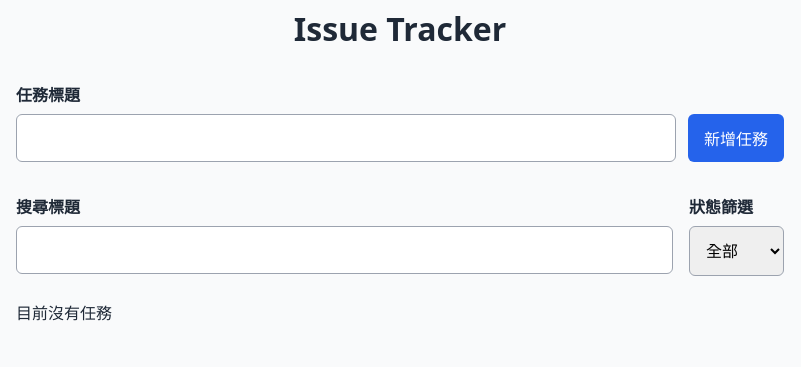
Test case: App › 新增任務時預設為待處理
This screenshot has width=801, height=367.
Type "新增搜尋" into the field labelled "任務標題" at (346, 138), box [16,114,676,162]
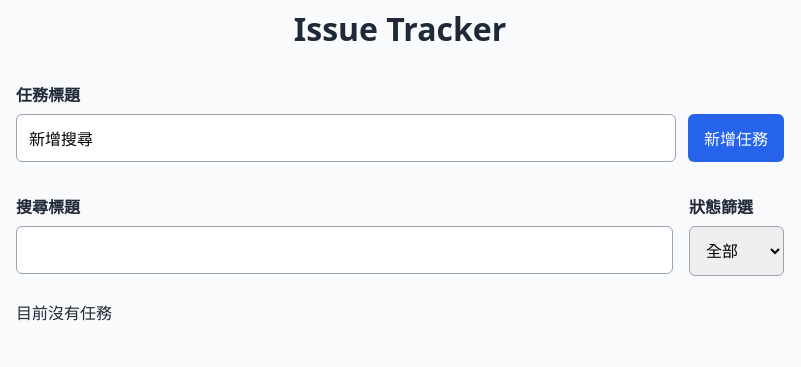
Click the button "新增任務" at (736, 138), box [688,114,784,162]
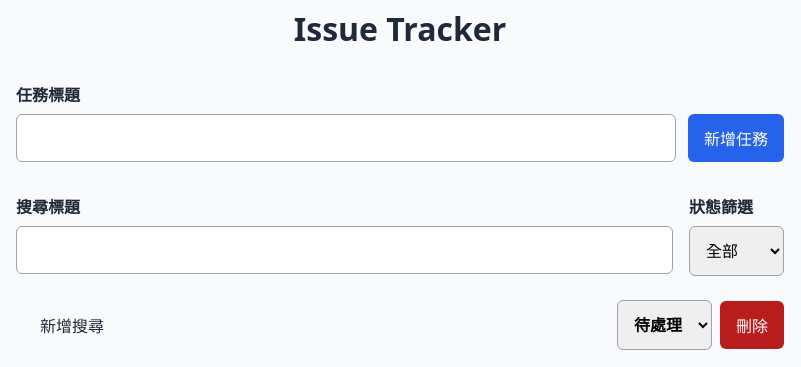
Expected: the dropdown named "任務「新增搜尋」狀態" shows "待處理", [617,300,712,350]
